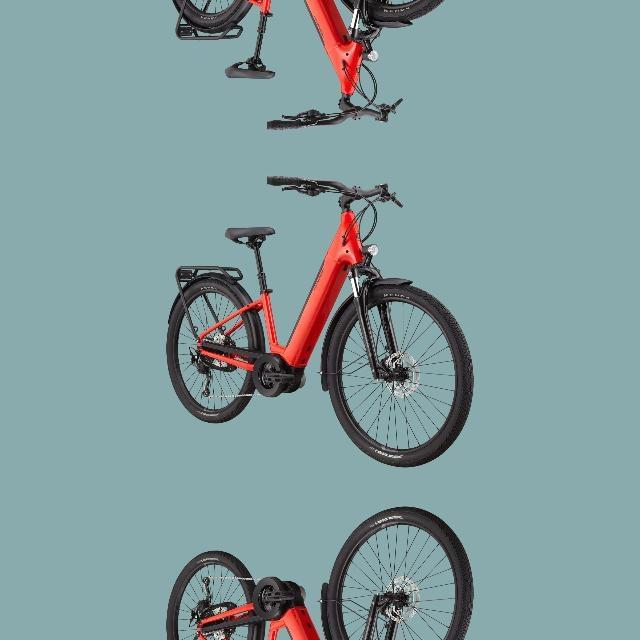obstacle: (156, 170, 488, 470), (156, 504, 488, 640), (156, 0, 488, 134)
